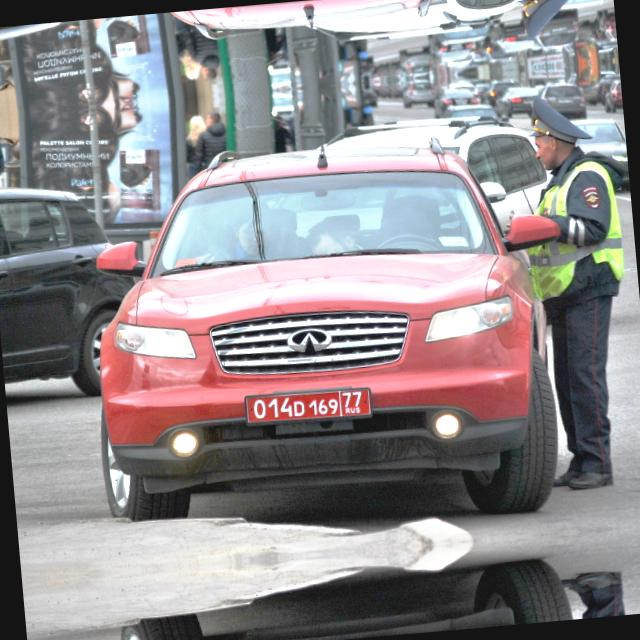diplomatic: (236, 374, 379, 439)
